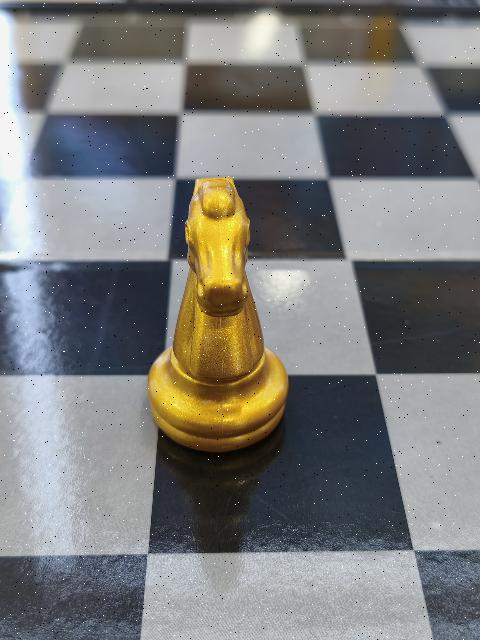black_knight: (147, 177, 288, 448)
